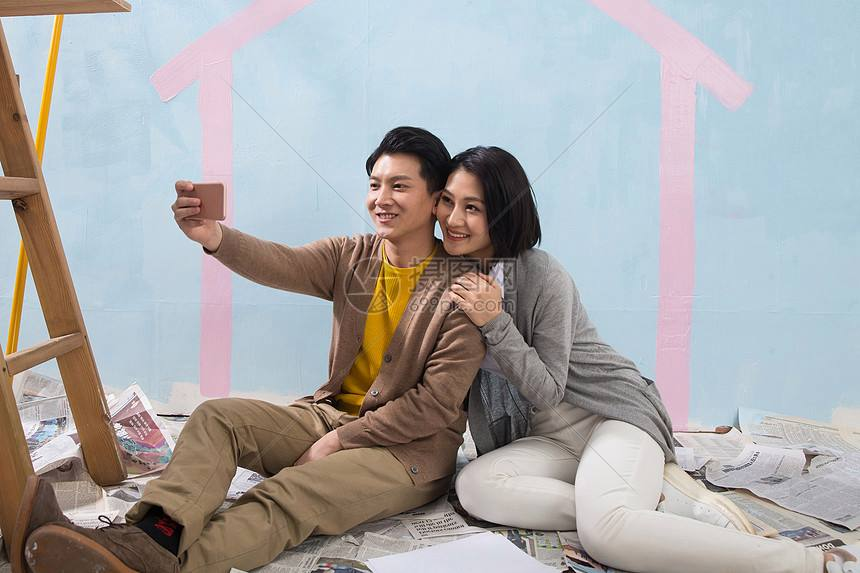taking photos: (166, 176, 234, 252)
